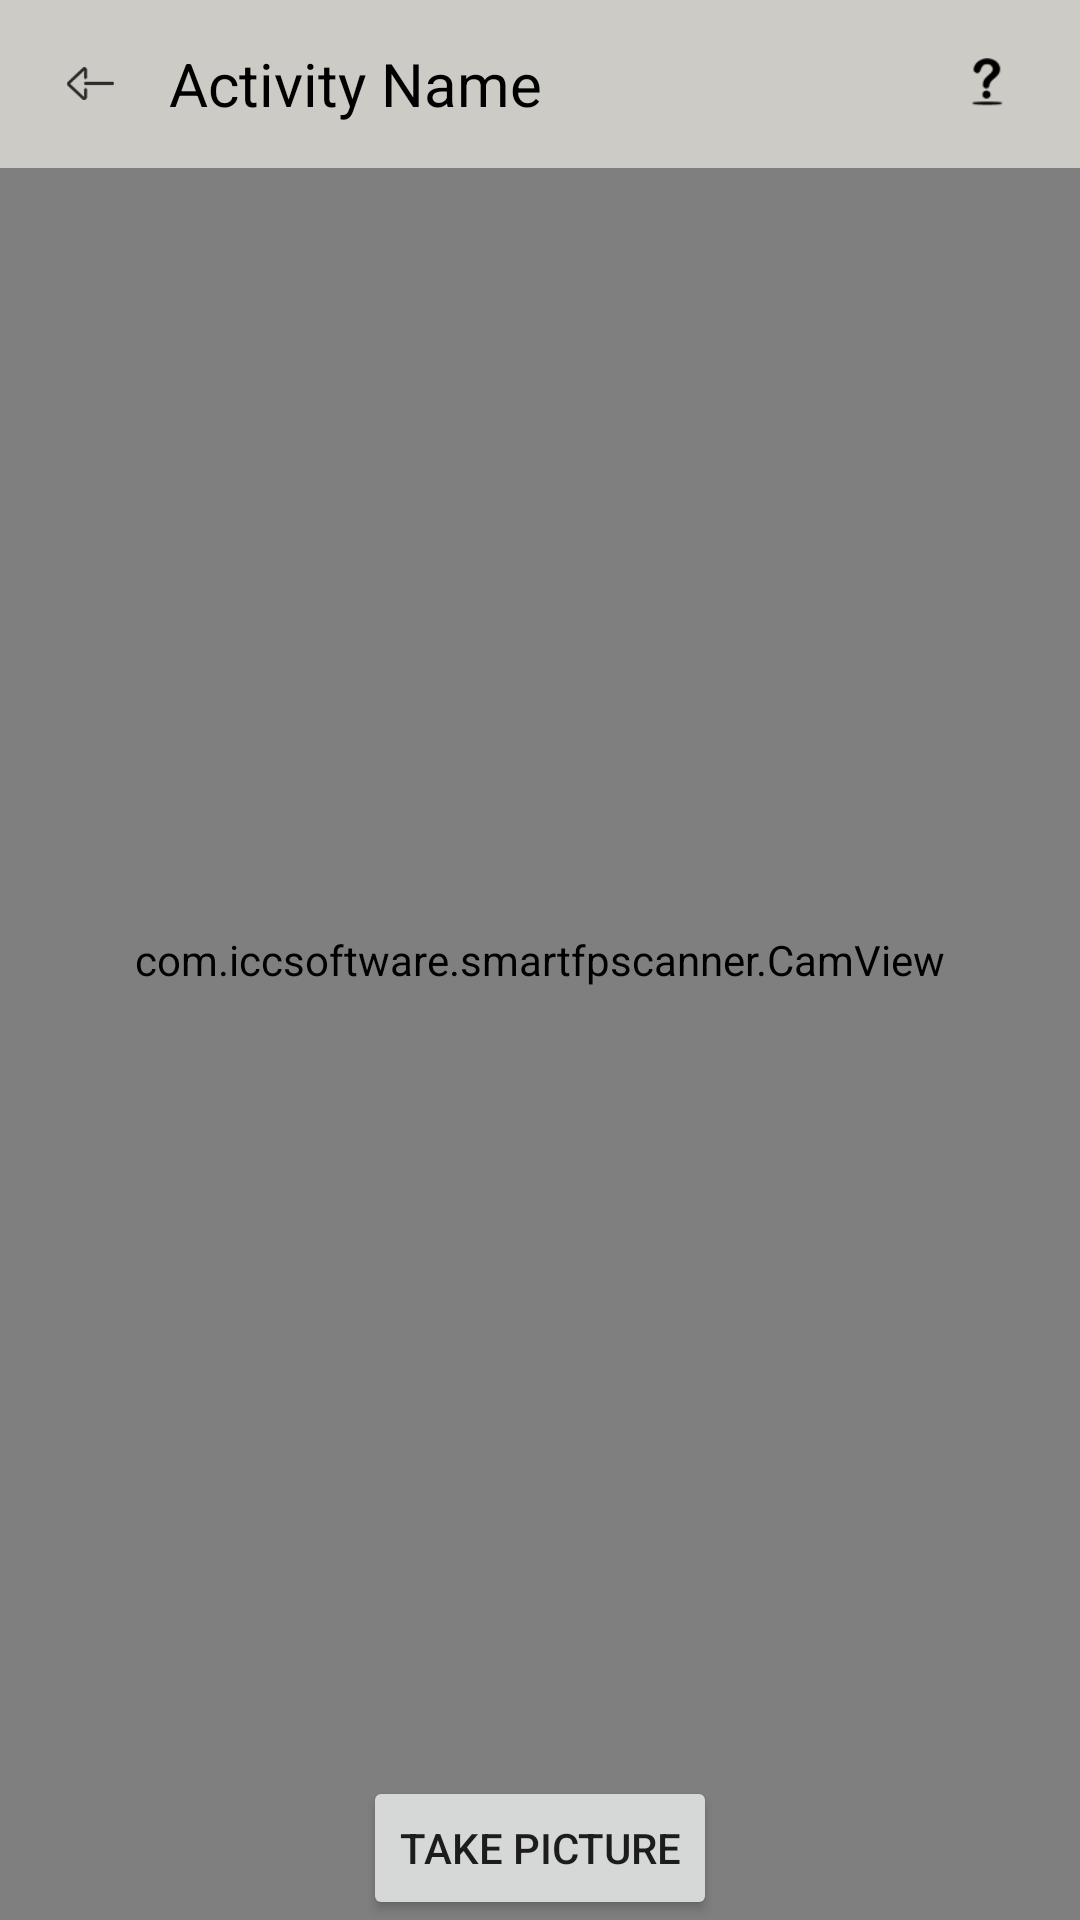

Icon bounding boxes for this 1080w x 1920h phone screenshot, format (x1, y1, x2, y2):
back: (67, 67, 114, 100)
help: (972, 58, 1003, 106)
